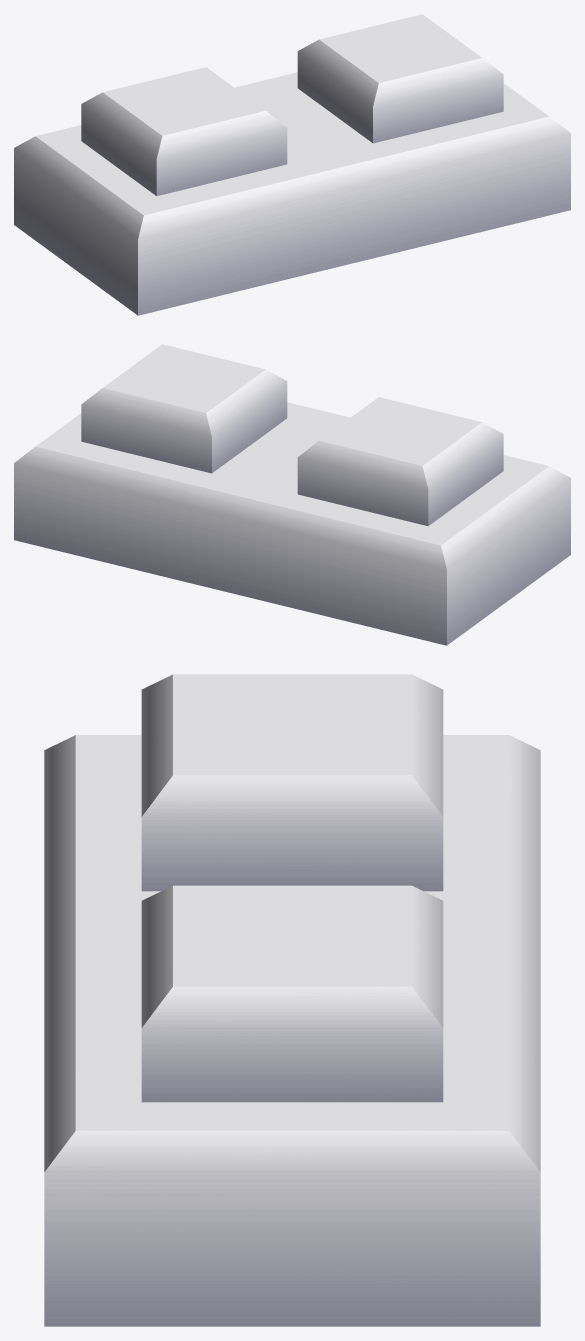
Rendered from square_hq_plate_1x2.glb.
The picture shows the model from 3 angles, top to bottom: view 1: azimuth 30°, elevation 25°; view 2: azimuth 150°, elevation 25°; view 3: azimuth 270°, elevation 25°; orthographic projection. The views are drawn at different scales.
Visible parts, largest first — view 1: square-hq-plate-1x2; view 2: square-hq-plate-1x2; view 3: square-hq-plate-1x2.
Part boxes in pixels (x1,y1,x2,y2): square-hq-plate-1x2: (14, 14, 570, 315); square-hq-plate-1x2: (14, 344, 570, 645); square-hq-plate-1x2: (44, 674, 540, 1326).
Size of the model in its own units: 0.159 by 0.05 by 0.079.
Materials: 1 (1 with a texture image).
